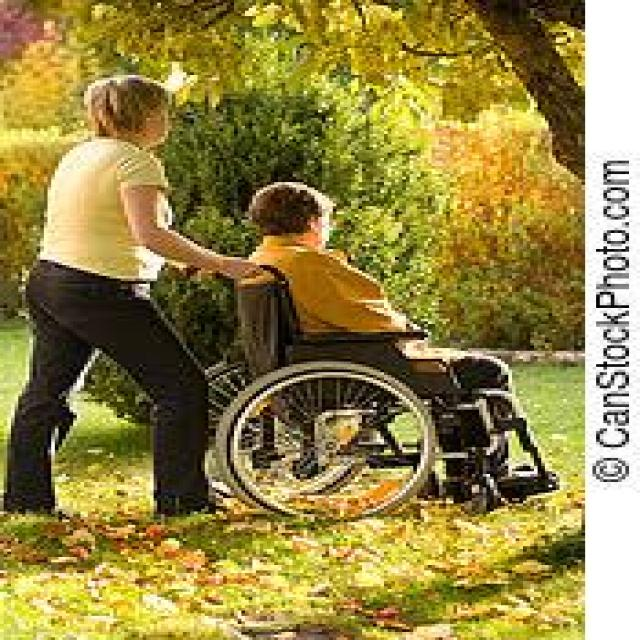wheelchairs: (179, 255, 571, 520)
